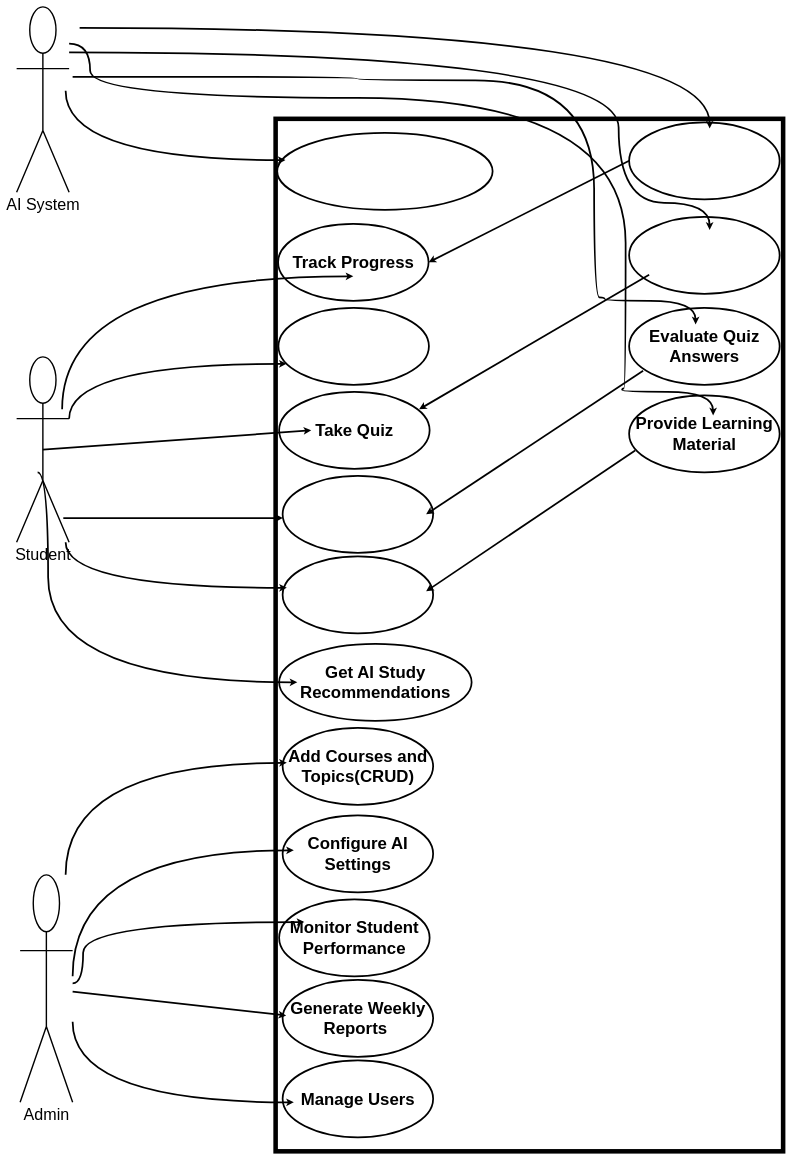
The diagram is 791 pixels wide and 1160 high, and some of its shapes have lost their labels. Here are the shapes that lost their labels. From the top down, the box of each, then its label:
(276, 132, 493, 211): Provide External Course Recommendations
(628, 121, 780, 200): Suggest Study Schedules
(628, 216, 780, 295): Generate AI Based Quiz
(277, 307, 430, 386): Register & Login
(282, 475, 434, 554): View Quiz Result
(282, 555, 434, 634): Reset Password
